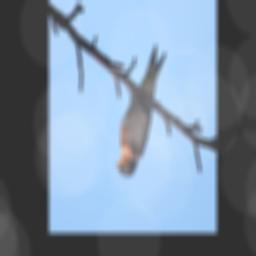Swallow: (114, 44, 166, 177)
